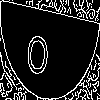O: (25, 24, 51, 76)
